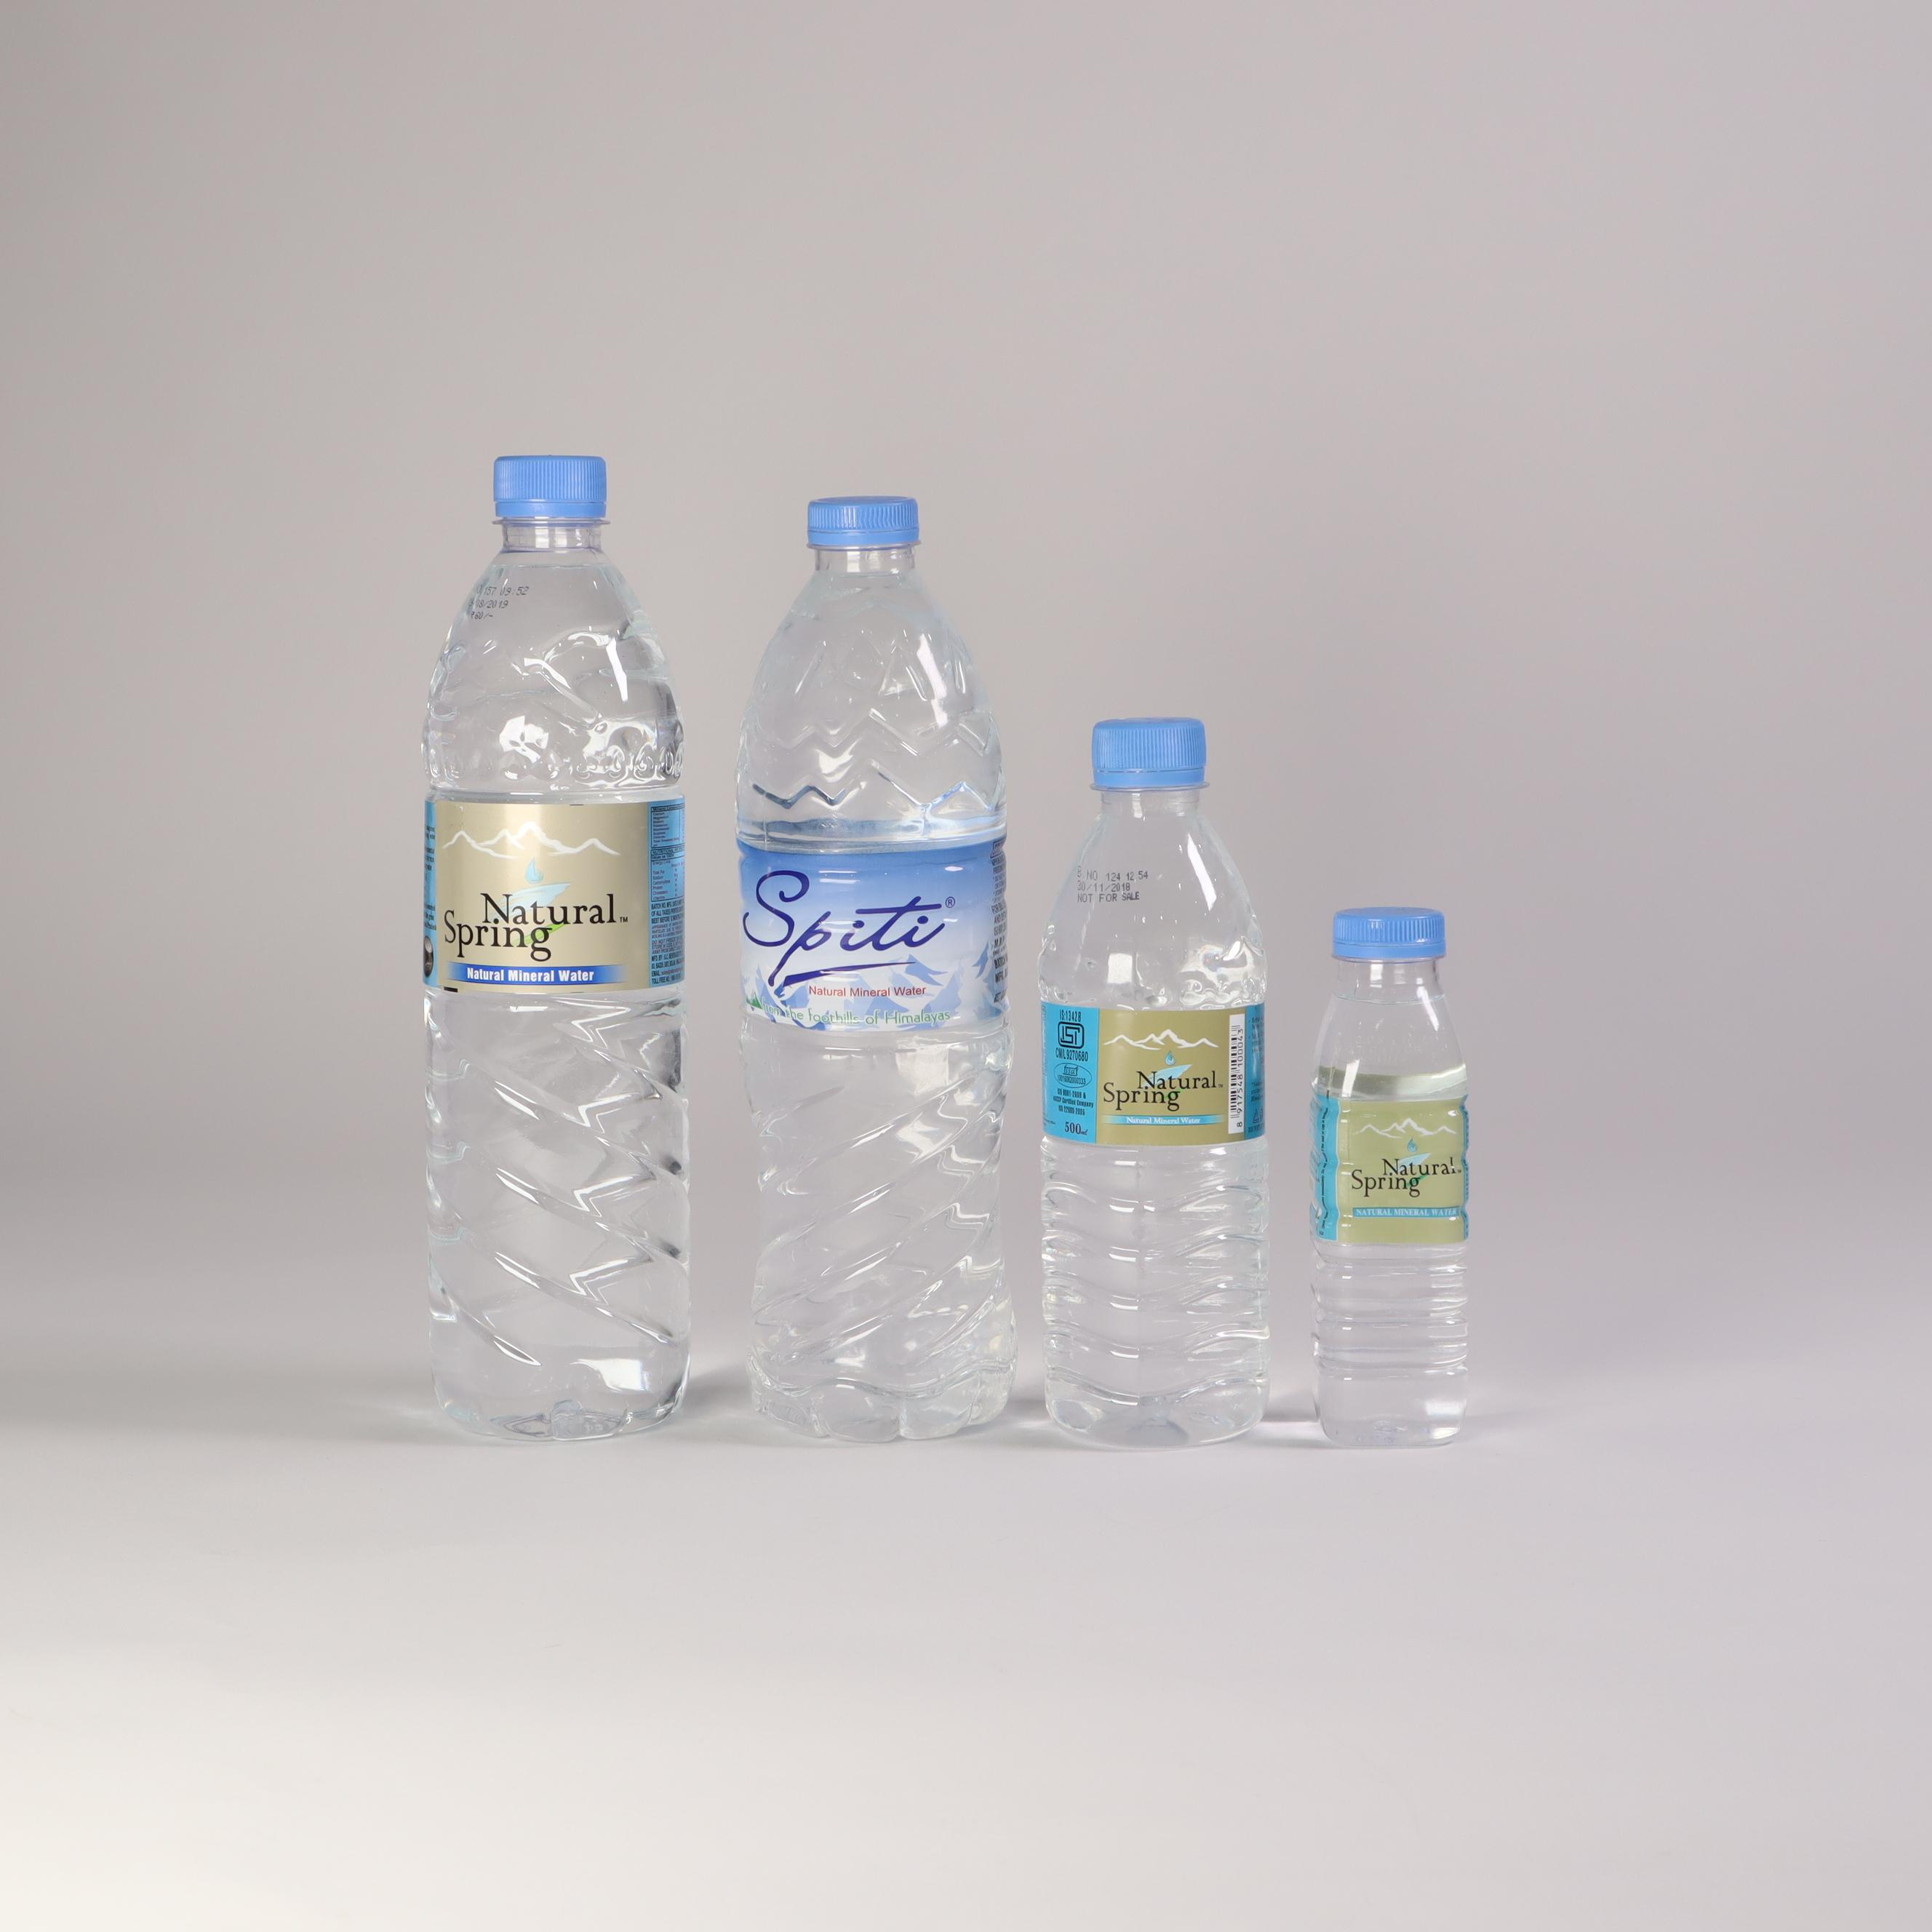bottle: (375, 409, 711, 1440), (736, 402, 1037, 1437), (1053, 651, 1299, 1440), (1315, 837, 1490, 1442)
